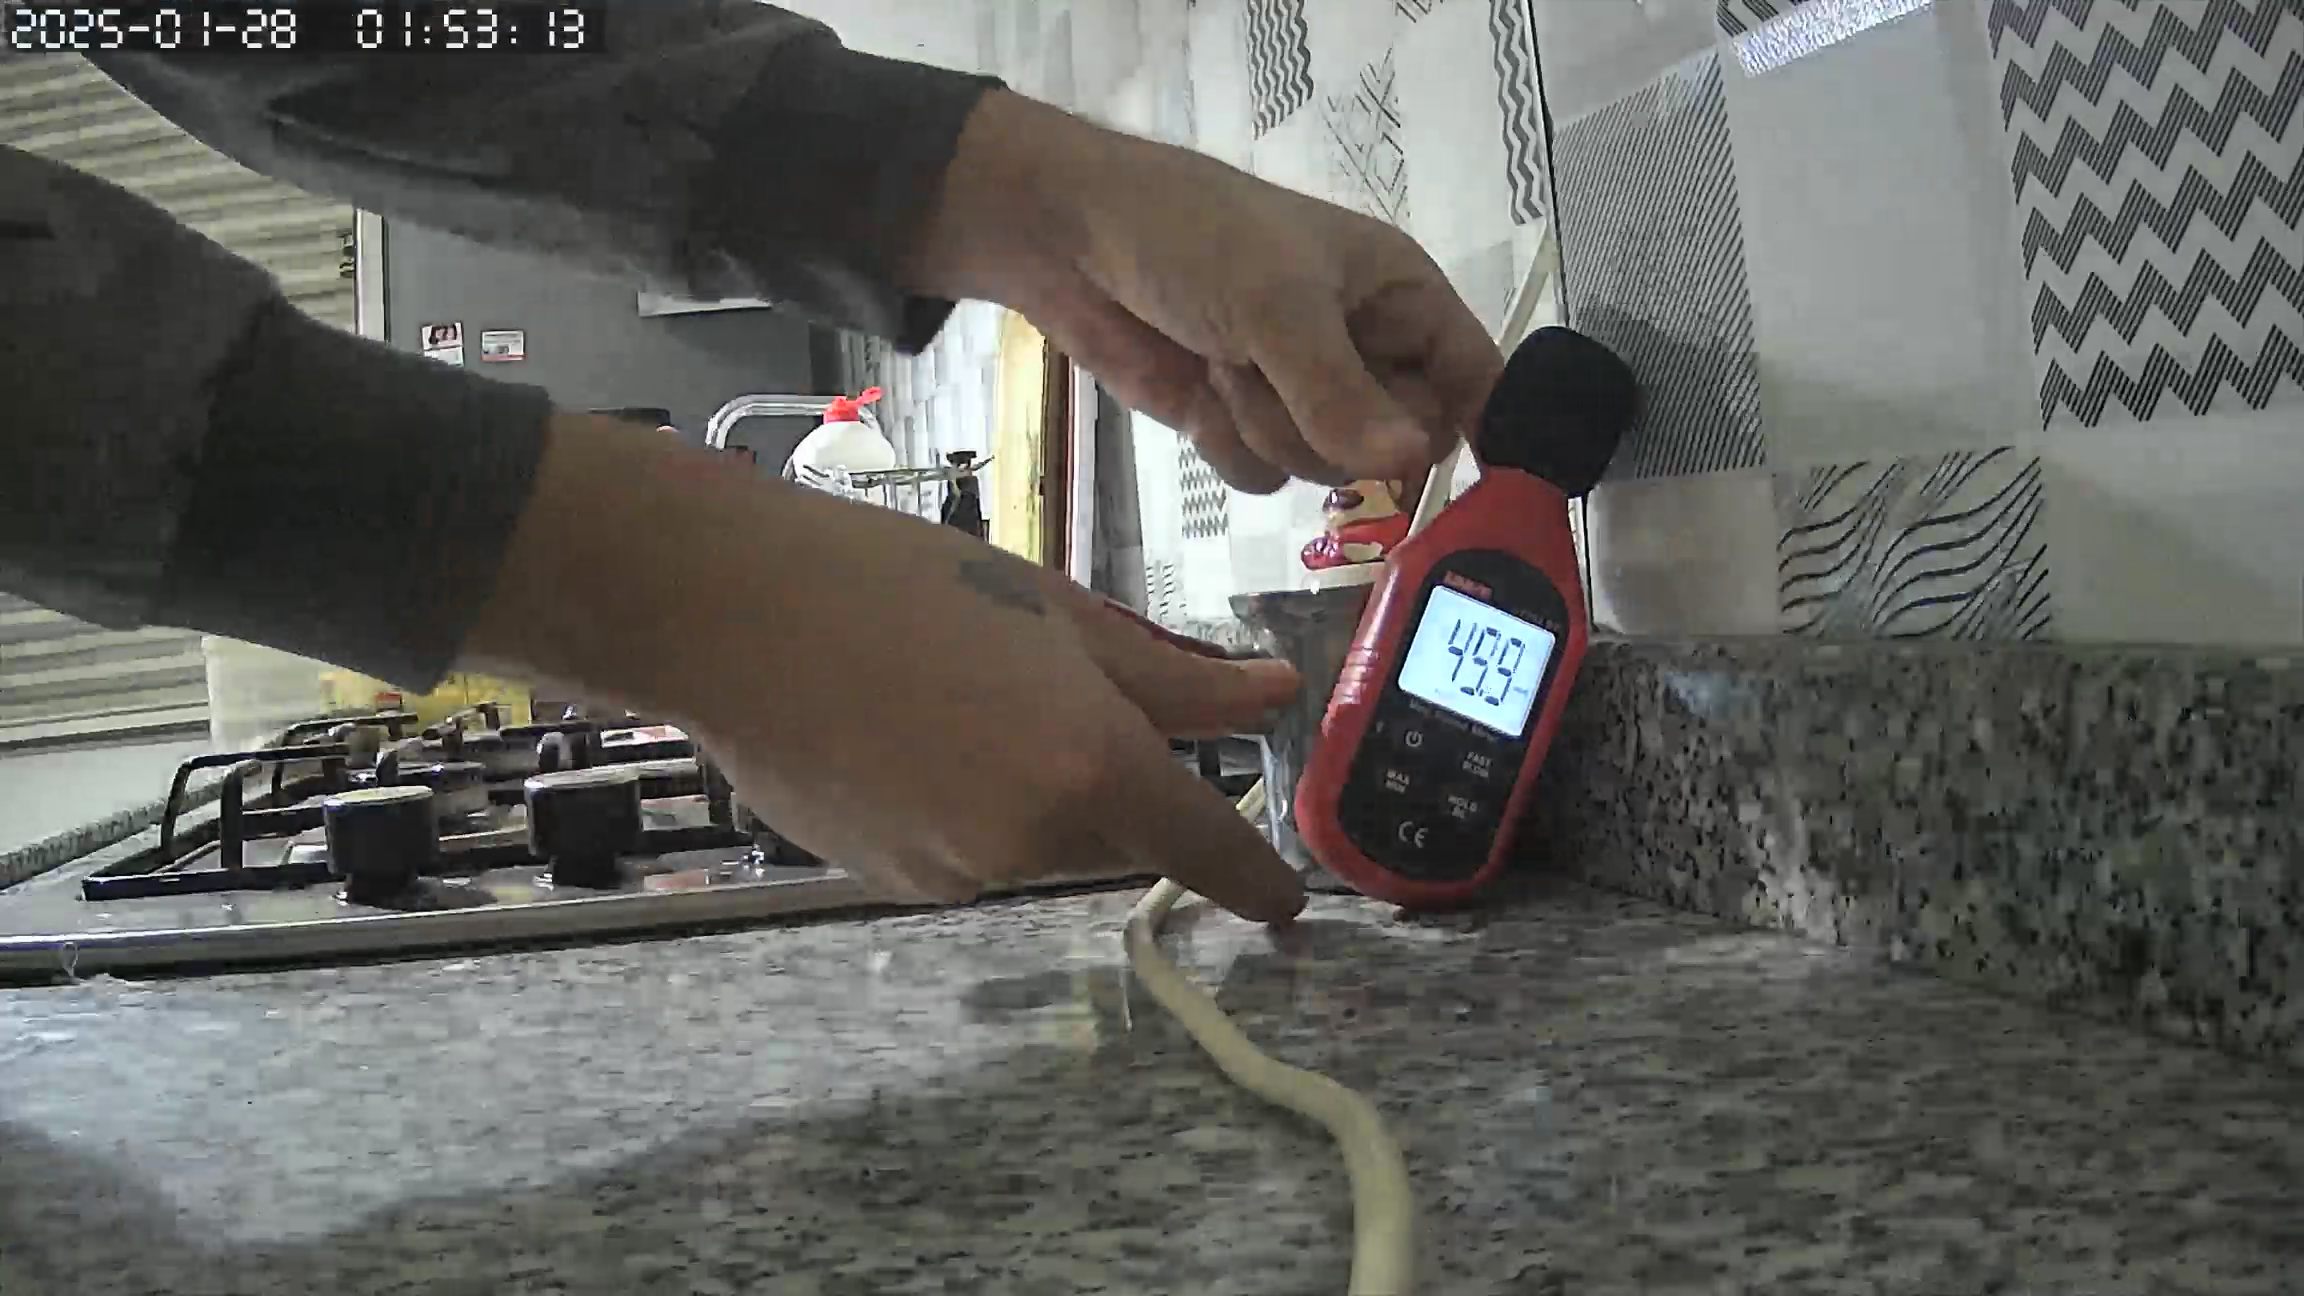screen: (1396, 585, 1557, 736)
